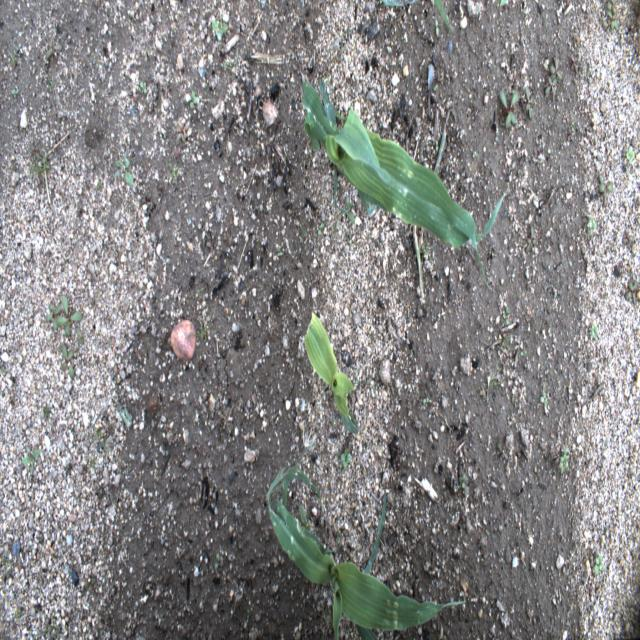crop: (300, 67, 508, 292), (265, 437, 478, 636), (304, 306, 357, 440), (432, 2, 451, 41), (379, 0, 420, 12)
weed: (45, 292, 81, 340), (540, 48, 564, 105), (26, 138, 54, 186), (498, 76, 520, 134), (56, 337, 83, 382), (41, 33, 70, 68), (598, 0, 625, 37), (188, 311, 217, 344), (209, 8, 231, 51), (113, 144, 134, 189), (178, 84, 204, 120), (19, 434, 41, 476), (596, 168, 617, 206), (170, 117, 193, 150), (568, 32, 585, 76), (522, 218, 544, 252), (432, 120, 448, 166), (113, 396, 132, 431), (498, 299, 517, 334), (160, 155, 181, 186), (92, 424, 112, 456), (220, 46, 242, 75), (536, 378, 552, 417), (522, 80, 536, 122), (8, 43, 28, 72), (38, 69, 59, 95), (338, 442, 355, 474), (622, 271, 638, 303), (340, 192, 356, 223), (558, 438, 571, 476), (494, 434, 510, 464), (592, 547, 604, 582), (212, 547, 226, 577), (7, 78, 26, 100), (622, 141, 636, 168), (587, 317, 602, 341), (136, 77, 151, 100), (419, 384, 431, 412), (457, 468, 470, 493), (584, 213, 596, 240), (517, 340, 531, 363), (471, 142, 485, 164), (315, 219, 328, 238)
